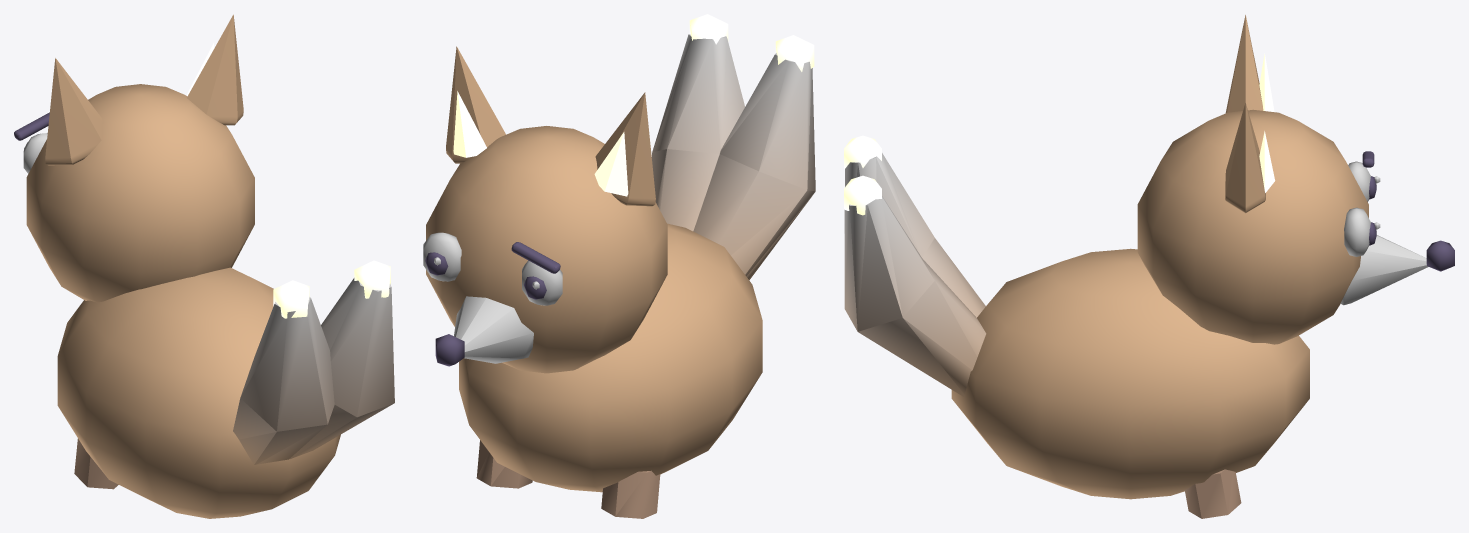
Rendered from art_r_fox.glb.
3 views of the same model, side by side, from view 1: azimuth 30°, elevation 25°; view 2: azimuth 150°, elevation 25°; view 3: azimuth 270°, elevation 25° (orthographic). The views are drawn at different scales.
Parts seen in each view (by area): view 1: Head, Body, Limb, Glow_FFE066, Eye; view 2: Head, Body, Limb, Glow_FFE066, Eye; view 3: Body, Head, Limb, Glow_FFE066, Eye.
Boxes of the visible parts, box(x1,y1,x2,y2) form: Head: box(26, 14, 254, 302); Body: box(57, 267, 340, 518); Limb: box(74, 278, 394, 489); Glow_FFE066: box(186, 43, 390, 318); Eye: box(14, 112, 49, 173); Head: box(426, 46, 667, 373); Body: box(459, 223, 762, 492); Limb: box(476, 34, 815, 518); Glow_FFE066: box(453, 14, 814, 196); Eye: box(423, 232, 562, 305); Body: box(951, 248, 1309, 499); Head: box(1137, 15, 1454, 344); Limb: box(844, 153, 1241, 518); Glow_FFE066: box(844, 53, 1275, 215); Eye: box(1344, 151, 1380, 256).
Bounding box in the file's own units: 1.4 × 2.46 × 3.19.
